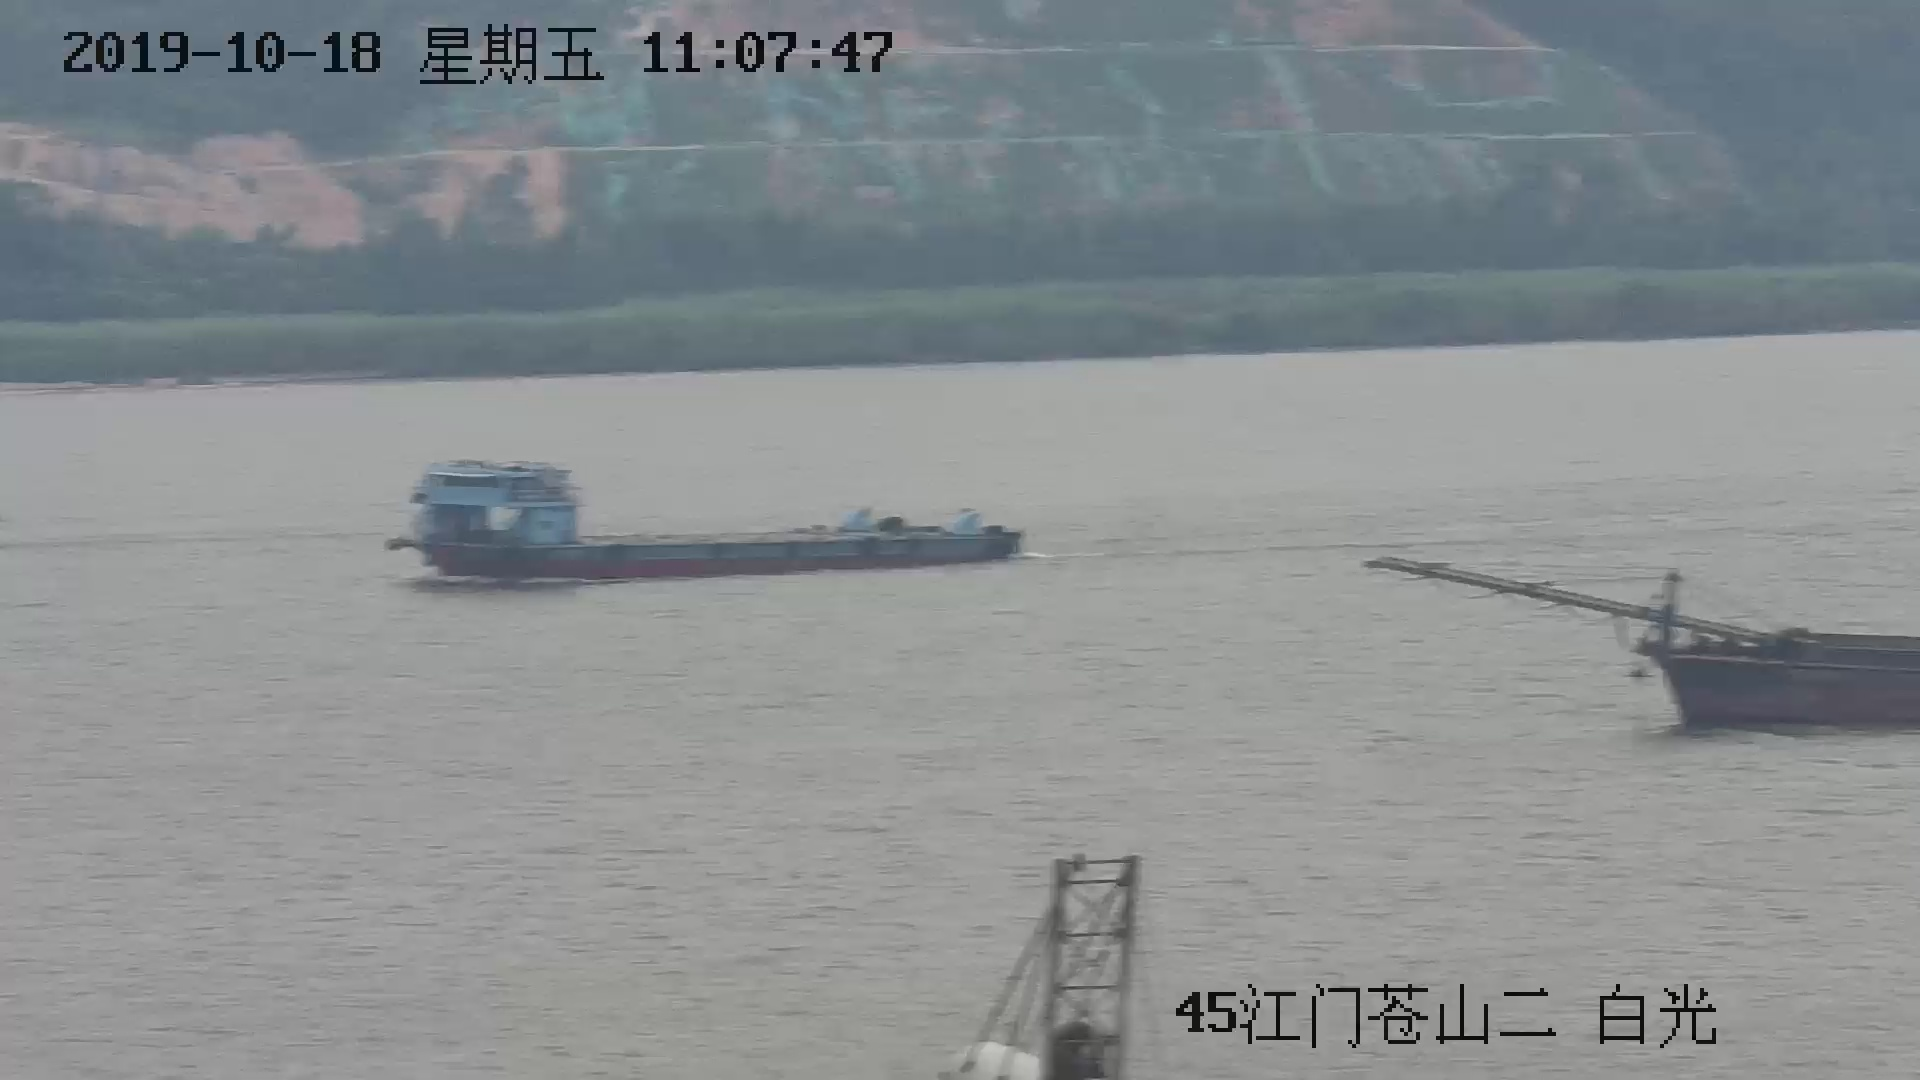ship: (1366, 555, 1916, 731), (401, 458, 1025, 578)
